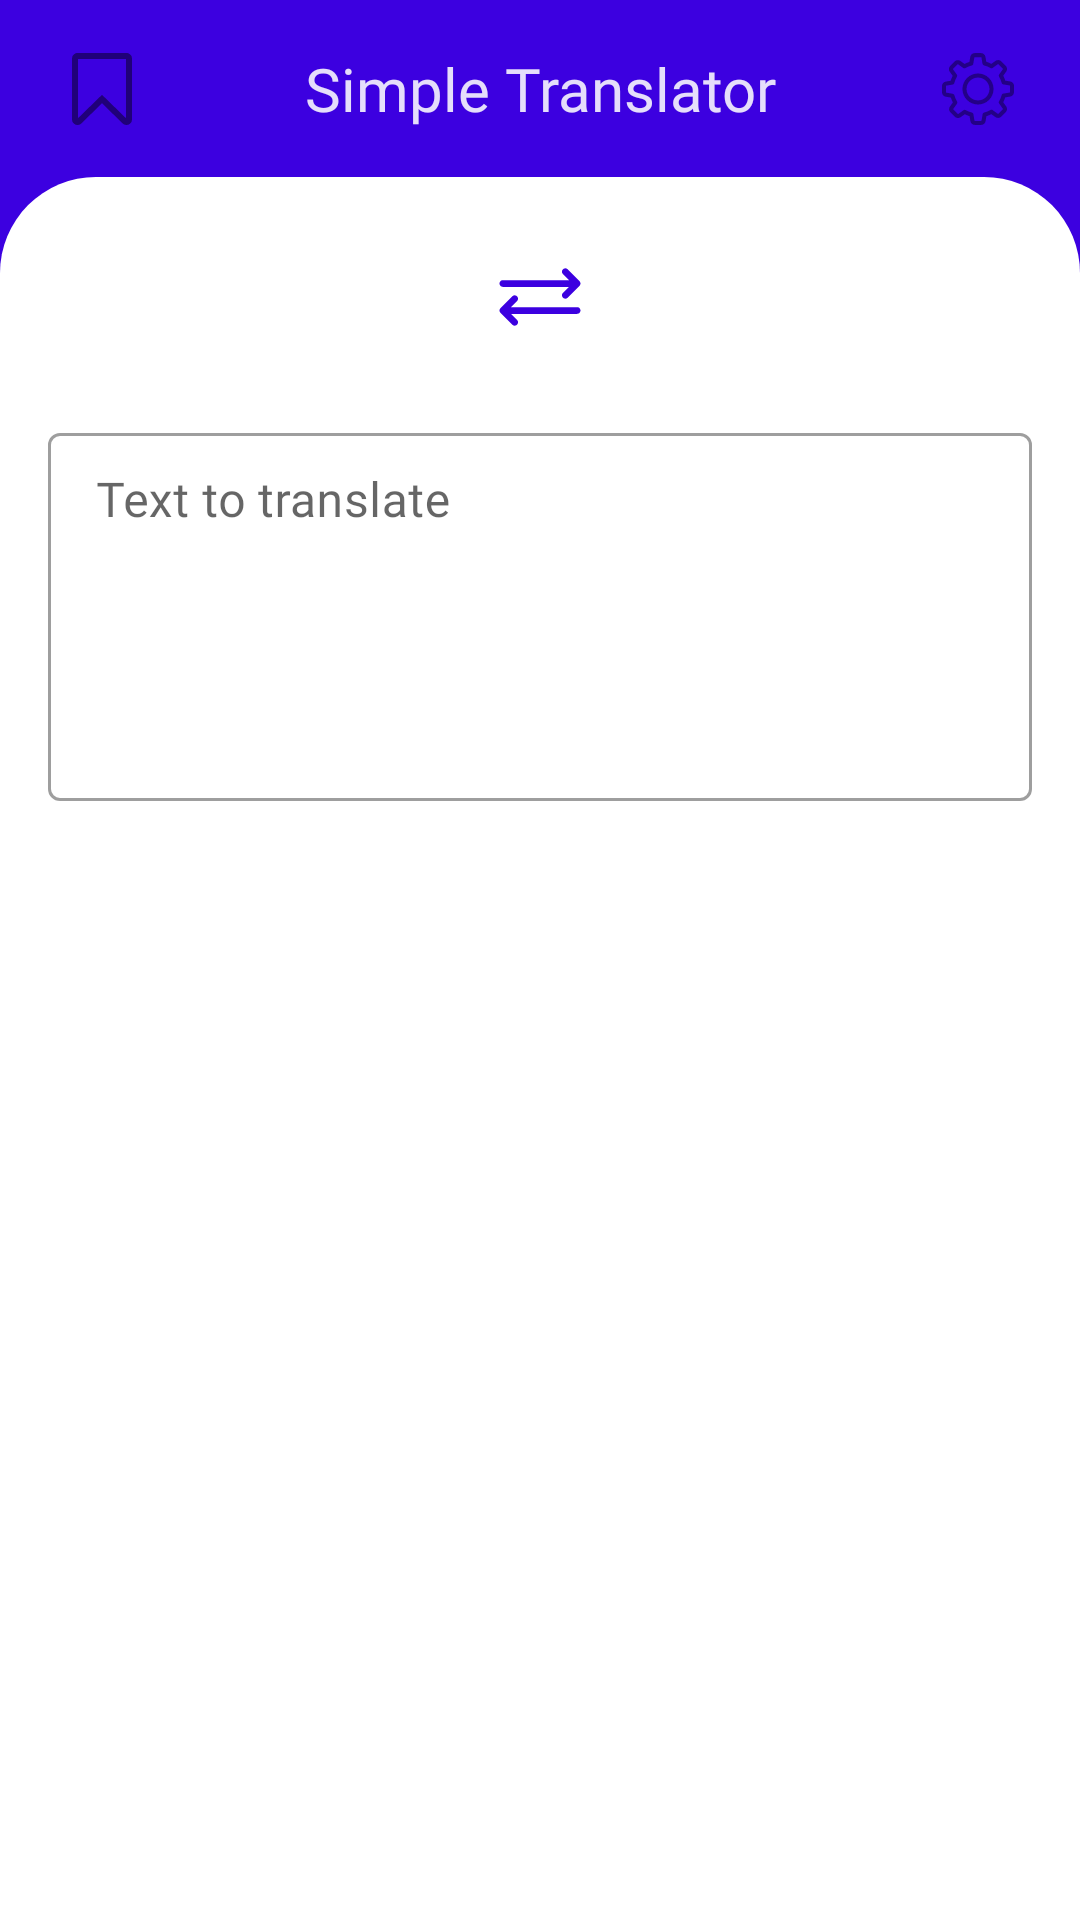

Icon click points for this 1080 × 1920 phone screenshot, format (x=x, y=y):
bookmark not: (x=102, y=89)
settings: (x=978, y=89)
swap languages: (x=540, y=297)
